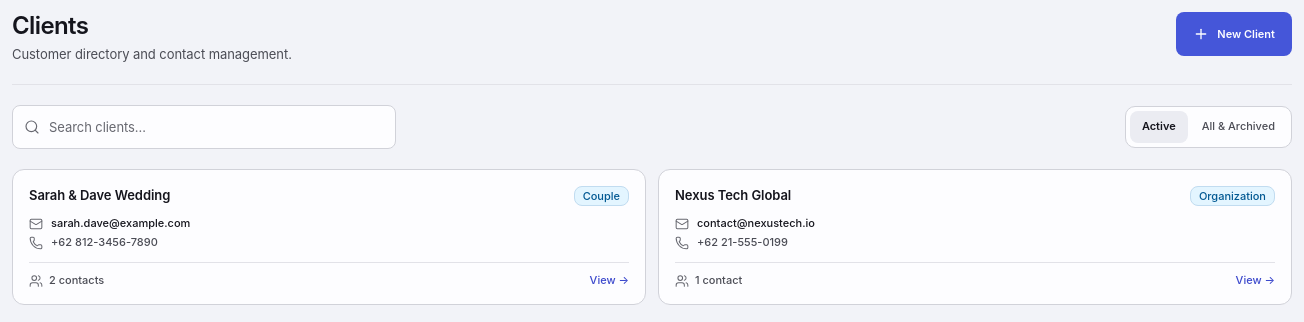
Test case: ClientsListRoute (CLIENT-REQ-001 / CLIENT-REQ-008) › filters clients list when searching by name
Check: the heading "Sarah & Dave Wedding" is shown, box [29,186,170,204]
Check: the heading "Nexus Tech Global" is shown, box [675,186,791,204]
Type "Nexus" into the field with placeholder "Search clients…". click: (204,127)
box: [12,105,396,149]
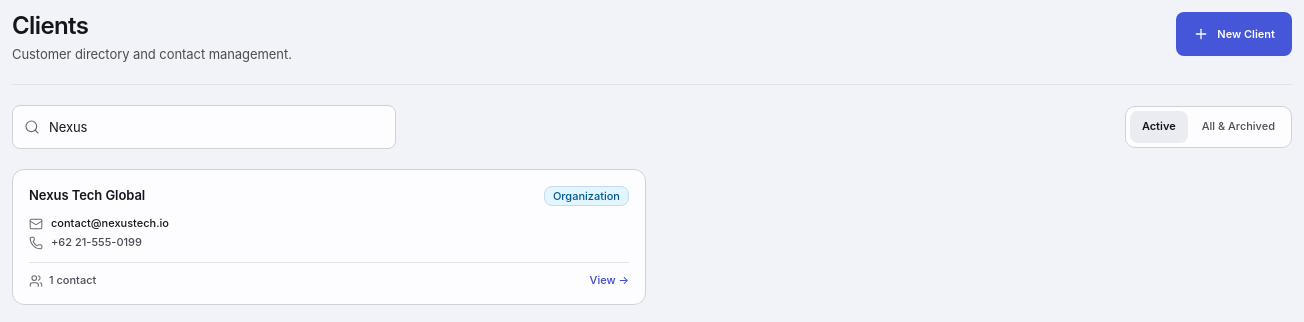
Check: the heading "Nexus Tech Global" is shown, box [29,186,145,204]
Check: the button "Sarah & Dave Wedding" is gone
